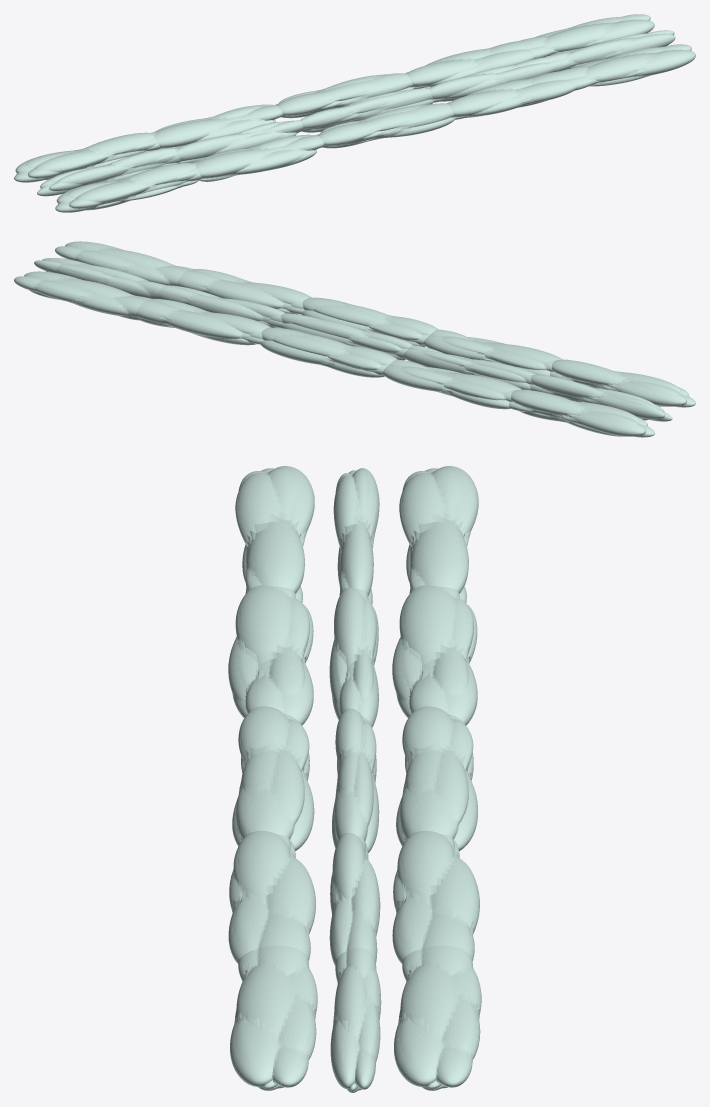
File: wadati.fbx
The picture shows the model from 3 angles, top to bottom: view 1: azimuth 30°, elevation 25°; view 2: azimuth 150°, elevation 25°; view 3: azimuth 270°, elevation 25°; orthographic projection. The views are drawn at different scales.
Visible parts, largest first — view 1: ICO球.001, ICO球.002, ICO球.004; view 2: ICO球.002, ICO球.001, ICO球.004; view 3: ICO球.001, ICO球.002, ICO球.004.
Part boxes in pixels (bbox=[...]): ICO球.001: bbox=[55, 44, 695, 212]; ICO球.002: bbox=[14, 14, 654, 182]; ICO球.004: bbox=[37, 30, 675, 196]; ICO球.002: bbox=[14, 271, 654, 437]; ICO球.001: bbox=[55, 241, 695, 407]; ICO球.004: bbox=[34, 258, 672, 421]; ICO球.001: bbox=[228, 466, 317, 1090]; ICO球.002: bbox=[392, 466, 481, 1090]; ICO球.004: bbox=[329, 468, 381, 1092].
Bounding box in the file's own units: 1441 × 48.65 × 248.
